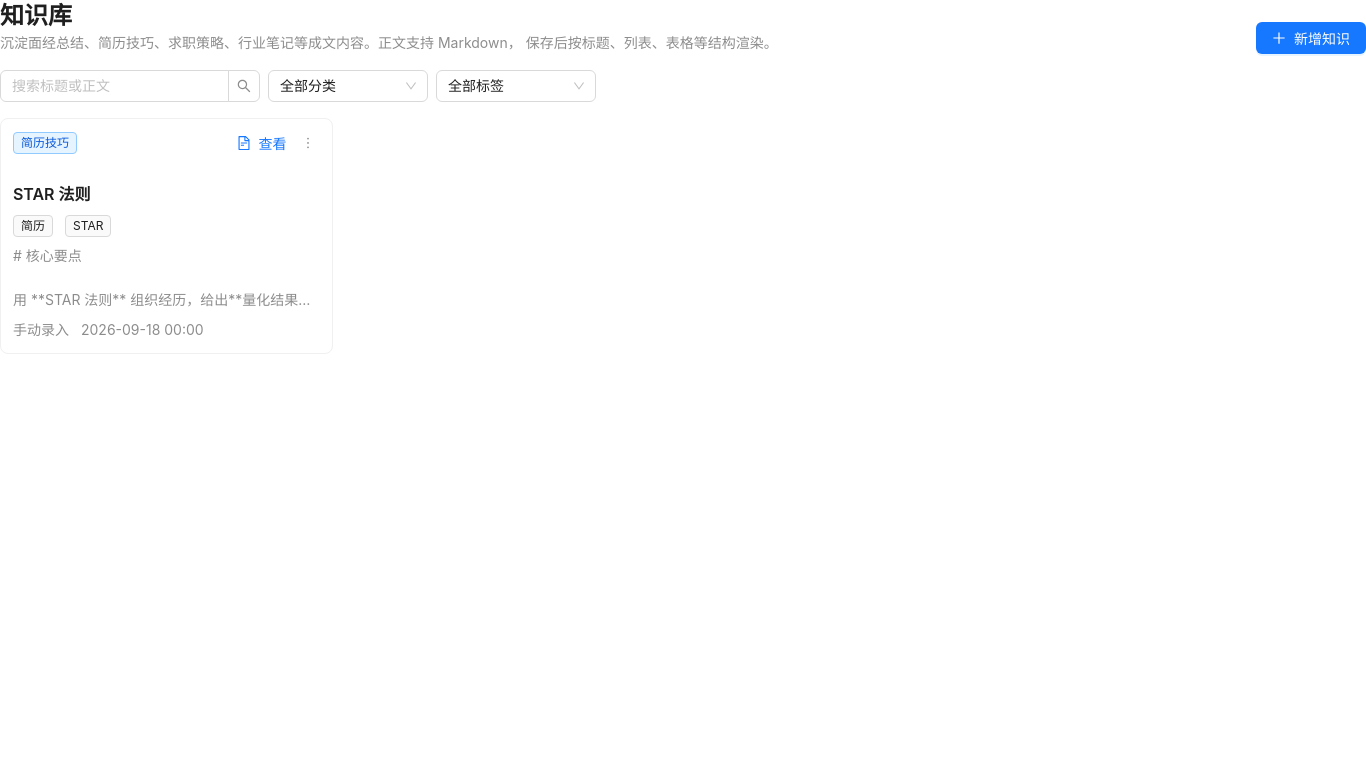
KnowledgePage › renders markdown content in the preview modal
The width and height of the screenshot is (1366, 768).
Expected: the heading "STAR 法则" is shown, [13, 184, 91, 204]
Click the button "查看".
click(262, 143)  # box [232, 131, 292, 155]
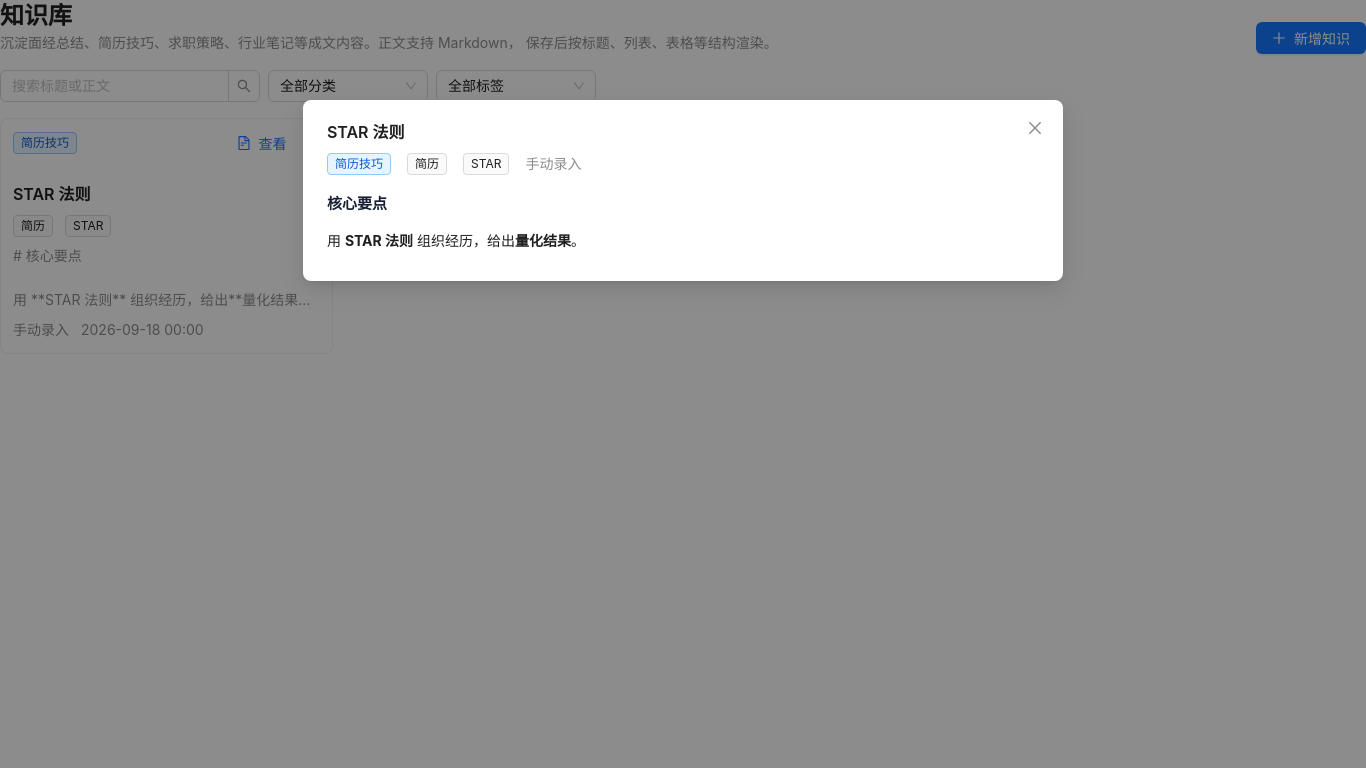
Expected: the heading "核心要点" is shown, [327, 194, 387, 213]
